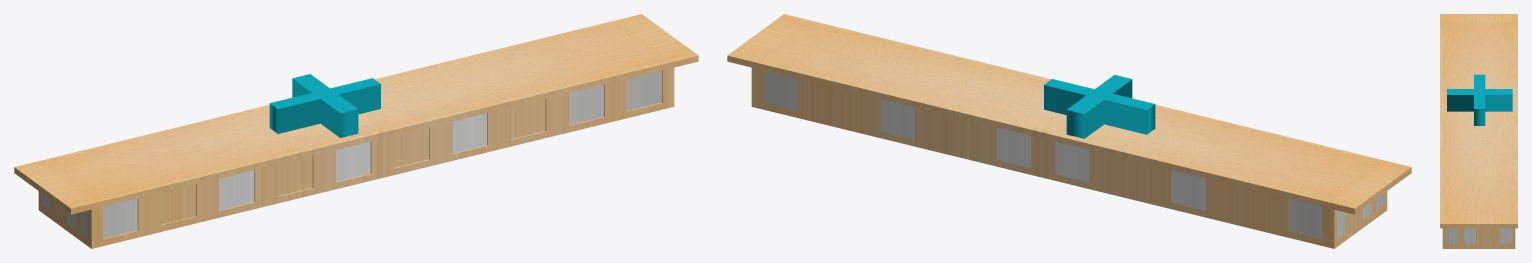
The model's file is Medic1.obj.
3 renders of one model, left to right at view 1: azimuth 30°, elevation 25°; view 2: azimuth 150°, elevation 25°; view 3: azimuth 270°, elevation 25°, orthographic. The views are drawn at different scales.
Visible parts, largest first — view 1: Plane.060, Text.026; view 2: Plane.060, Text.026; view 3: Plane.060, Text.026.
Boxes of the visible parts, box(x1,y1,x2,y2) form: Plane.060: box(14, 14, 698, 248); Text.026: box(269, 74, 380, 137); Plane.060: box(727, 14, 1411, 248); Text.026: box(1044, 74, 1155, 138); Plane.060: box(1440, 14, 1517, 248); Text.026: box(1447, 74, 1512, 125).
Bounding box in the file's own units: 20.24 × 2.22 × 3.17.
Materials: 3 (2 with a texture image).
